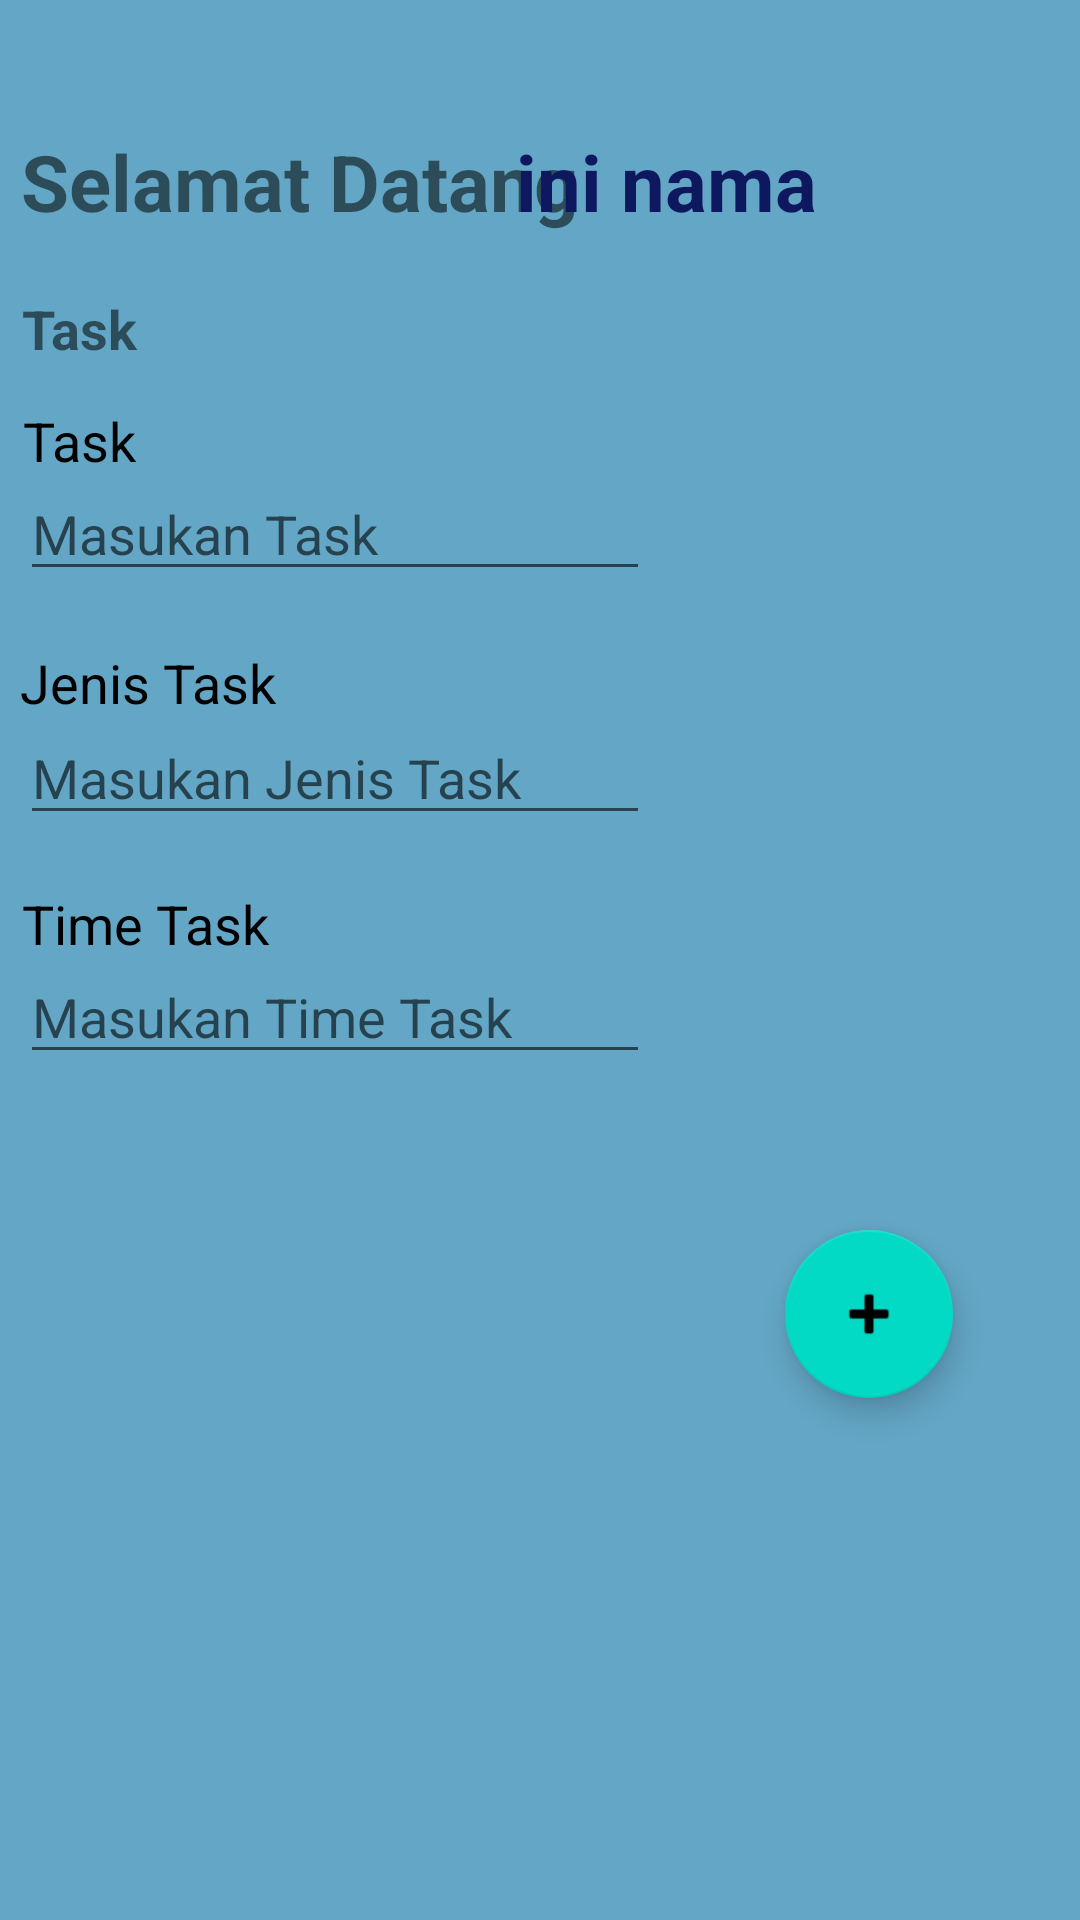

Icon bounding boxes for this 1080 × 1920 phone screenshot, format (x1, y1, x2, y2):
add: (785, 1230, 953, 1398)
